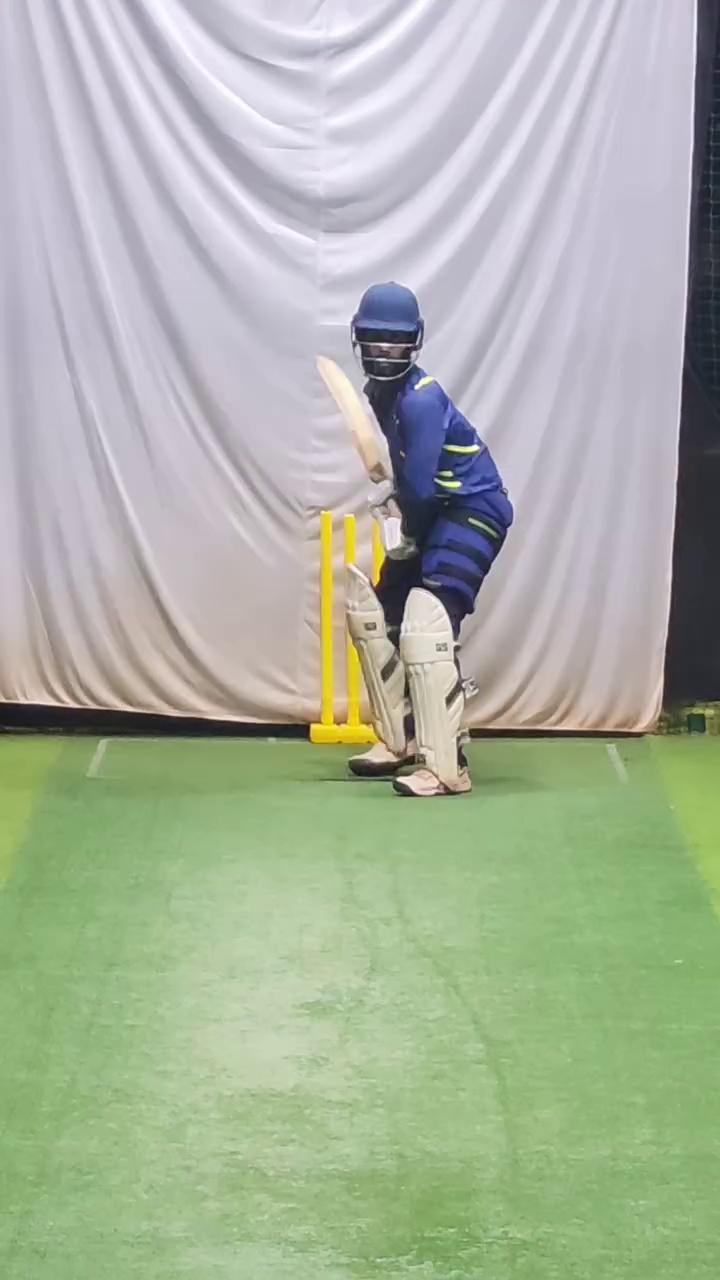bat: (311, 347, 391, 490)
